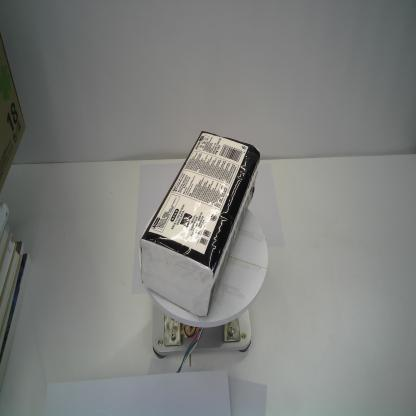Tissue: (138, 129, 261, 319)
